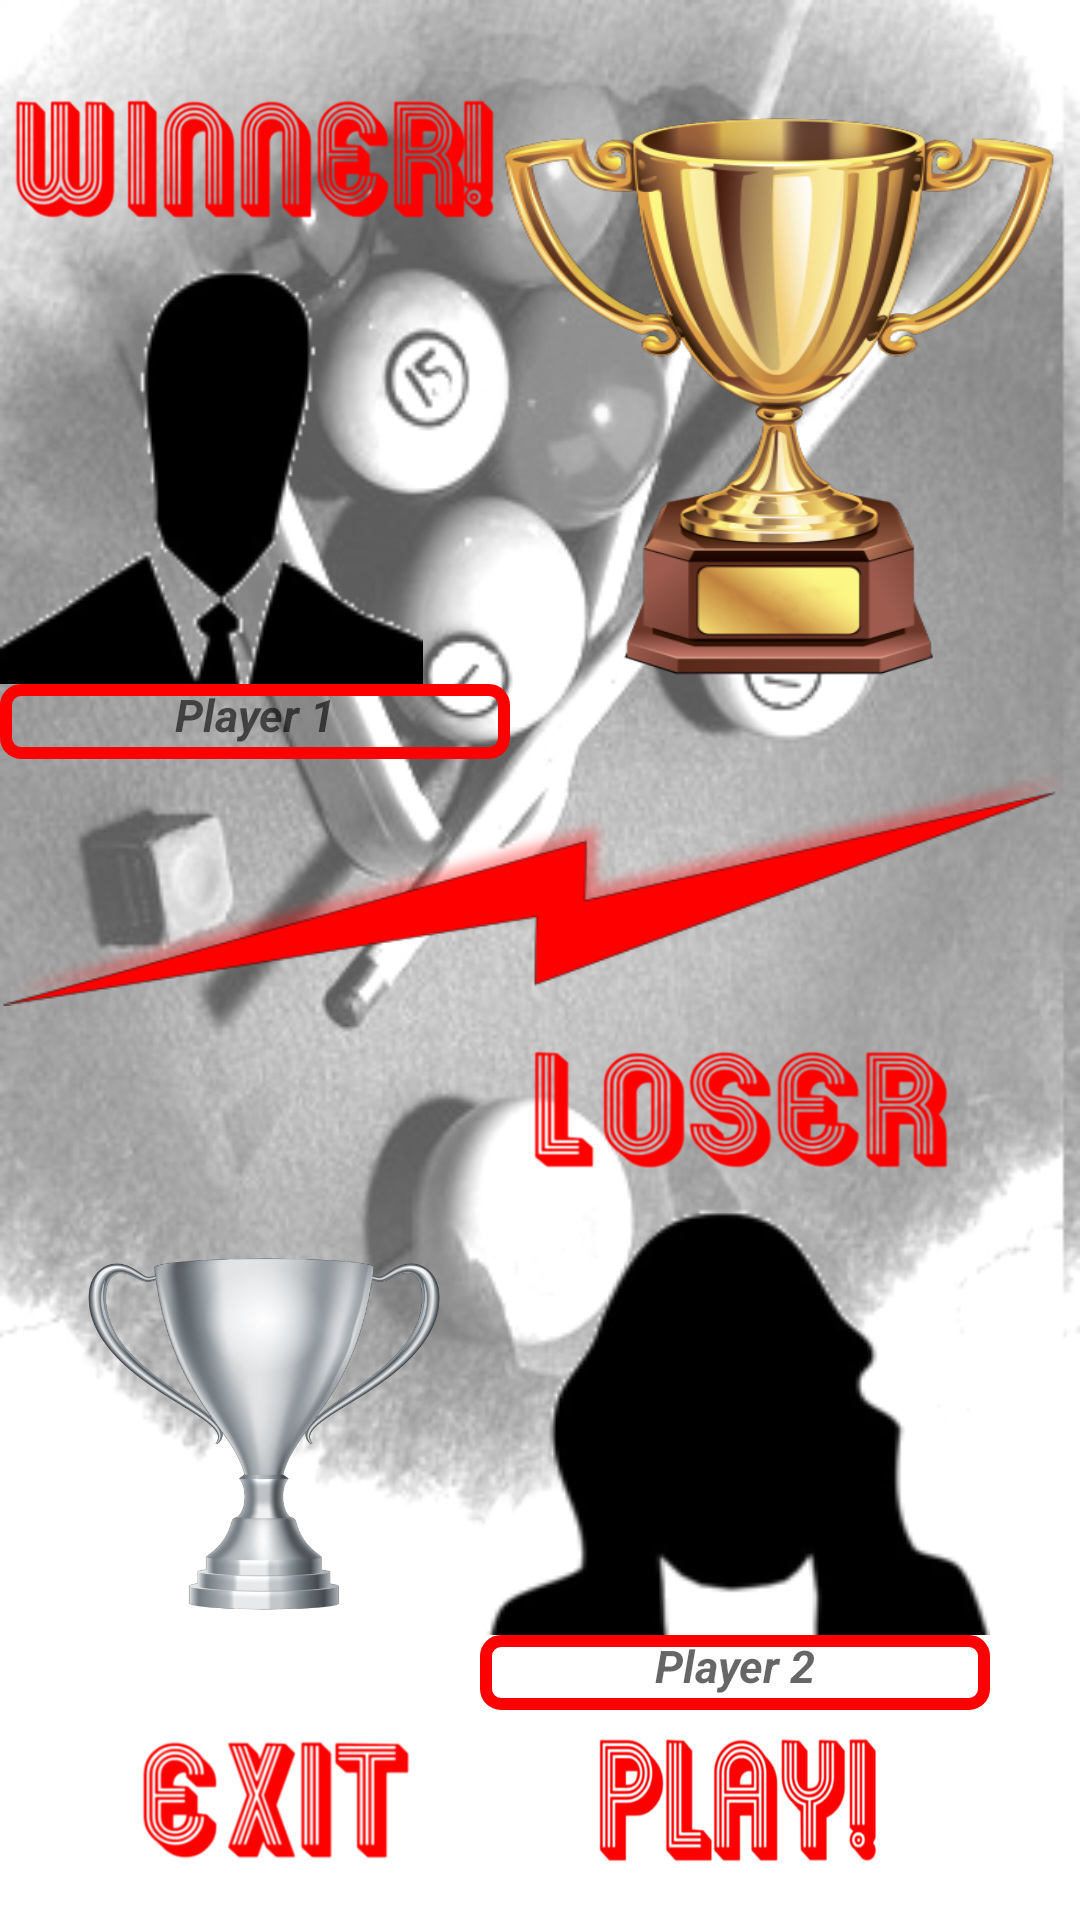

Point at icon controls on the screen. Image size 1080*1920, points as point (x, y).
silver cup: point (264, 1434)
